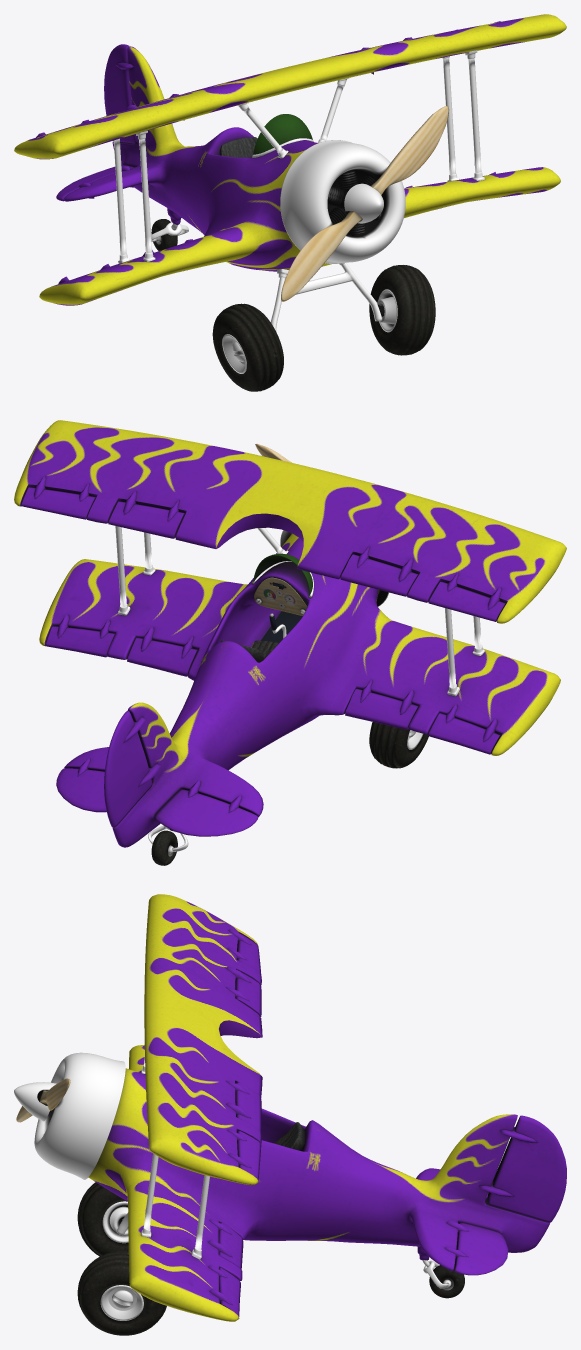
File: Biplane.glb
The picture shows the model from 3 angles, top to bottom: view 1: azimuth 30°, elevation 25°; view 2: azimuth 150°, elevation 25°; view 3: azimuth 270°, elevation 25°; orthographic projection.
Parts seen in each view (by area): view 1: Biplane, Propeller; view 2: Biplane; view 3: Biplane, Propeller.
Boxes of the visible parts, <box> form: Biplane: <box>14,14,566,391</box>; Propeller: <box>281,106,448,301</box>; Biplane: <box>14,420,566,865</box>; Biplane: <box>34,894,566,1335</box>; Propeller: <box>14,1078,70,1122</box>.
Size of the model in its own units: 1.82 by 0.9792 by 1.68.
1 material, 1 textured.
